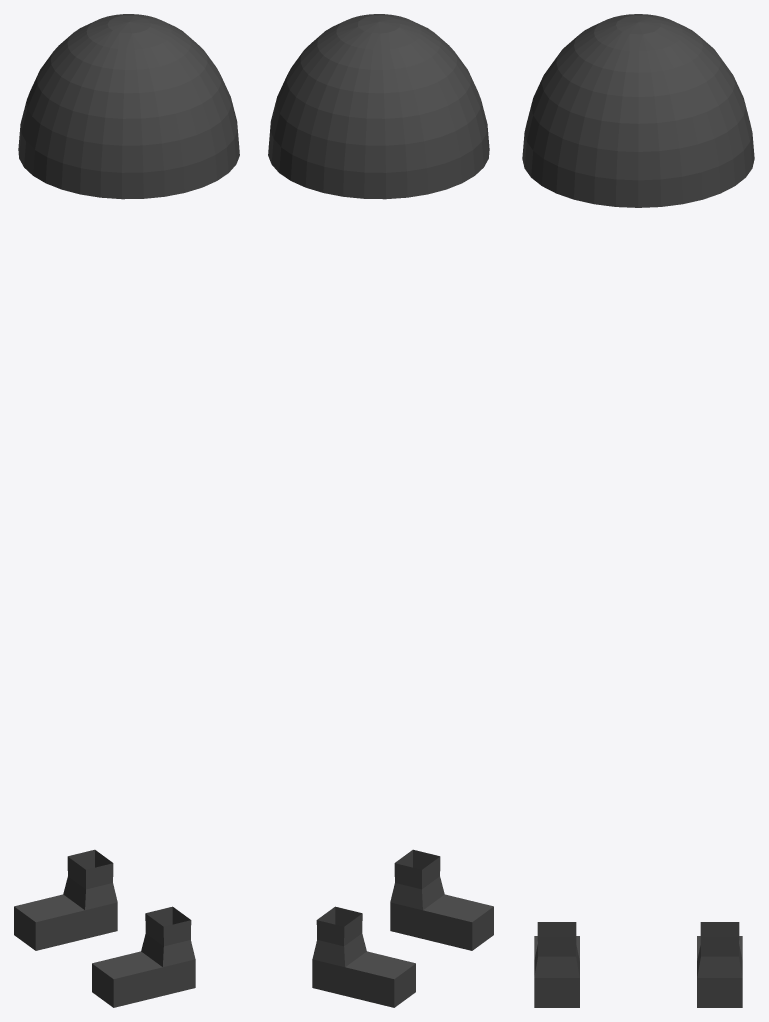
Rendered from knight-helm-boots.gltf.
The picture shows the model from 3 angles, left to right: view 1: azimuth 30°, elevation 25°; view 2: azimuth 150°, elevation 25°; view 3: azimuth 270°, elevation 25°; orthographic projection. The views are drawn at different scales.
Parts seen in each view (by area): view 1: Cube.004; view 2: Cube.004; view 3: Cube.004.
Boxes of the visible parts, left/top/right/bottom form: Cube.004: left=14, top=14, right=239, bottom=1007; Cube.004: left=268, top=14, right=493, bottom=1007; Cube.004: left=522, top=14, right=754, bottom=1007.
Size of the model in its own units: 1.86 by 8.61 by 1.86.
Materials: 1 (1 with a texture image).
